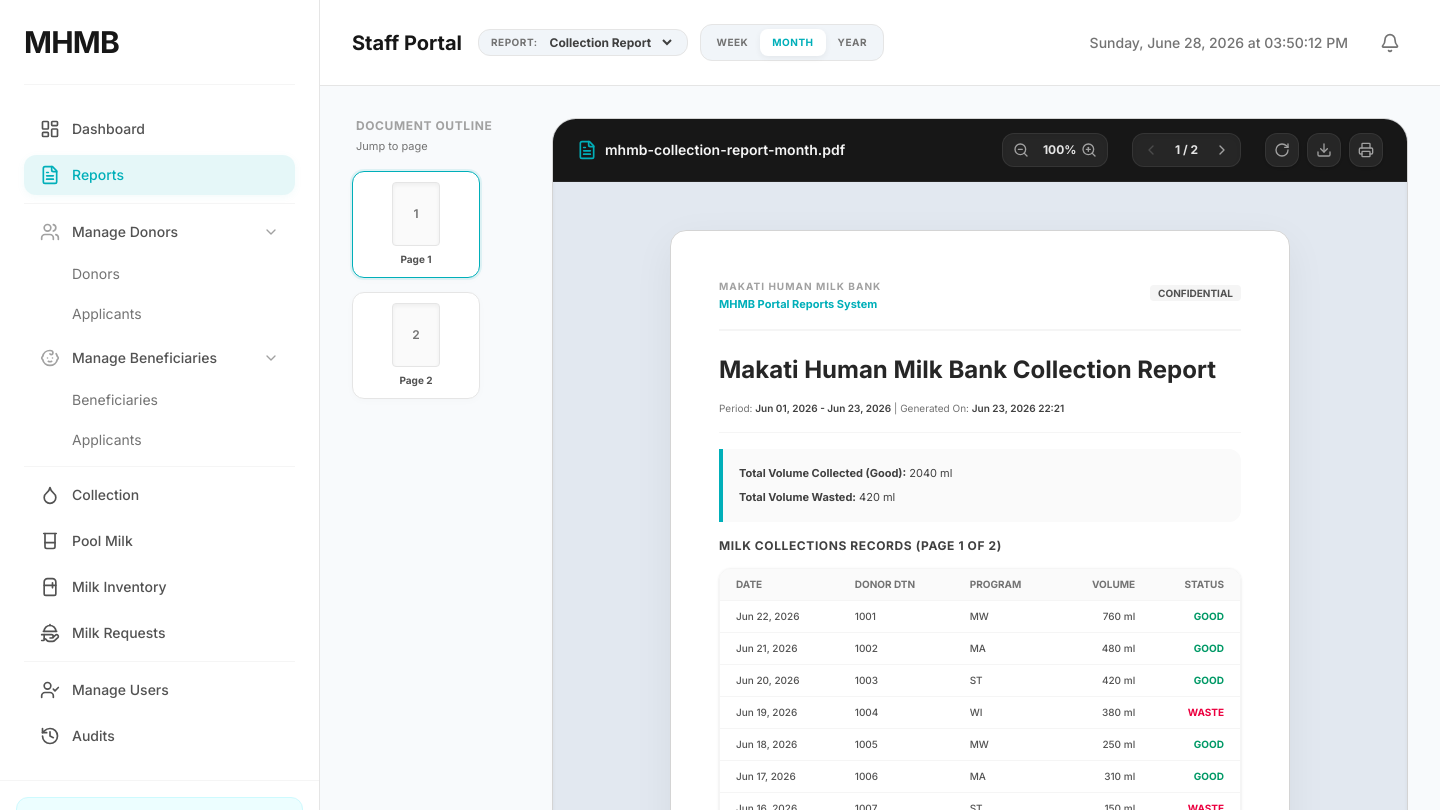
Test: StaffReports Component › navigates pages via next and prev buttons
This screenshot has width=1440, height=810.
Check: the element with test id "pdf-page-1" is shown, box [719,354,1241,809]
Check: the text "Jun 22, 2026" is shown, box [720,600,839,632]
Note: Click Next Page
Click the button with test id "next-page-btn" at [1222, 150], box [1208,136,1236,164]
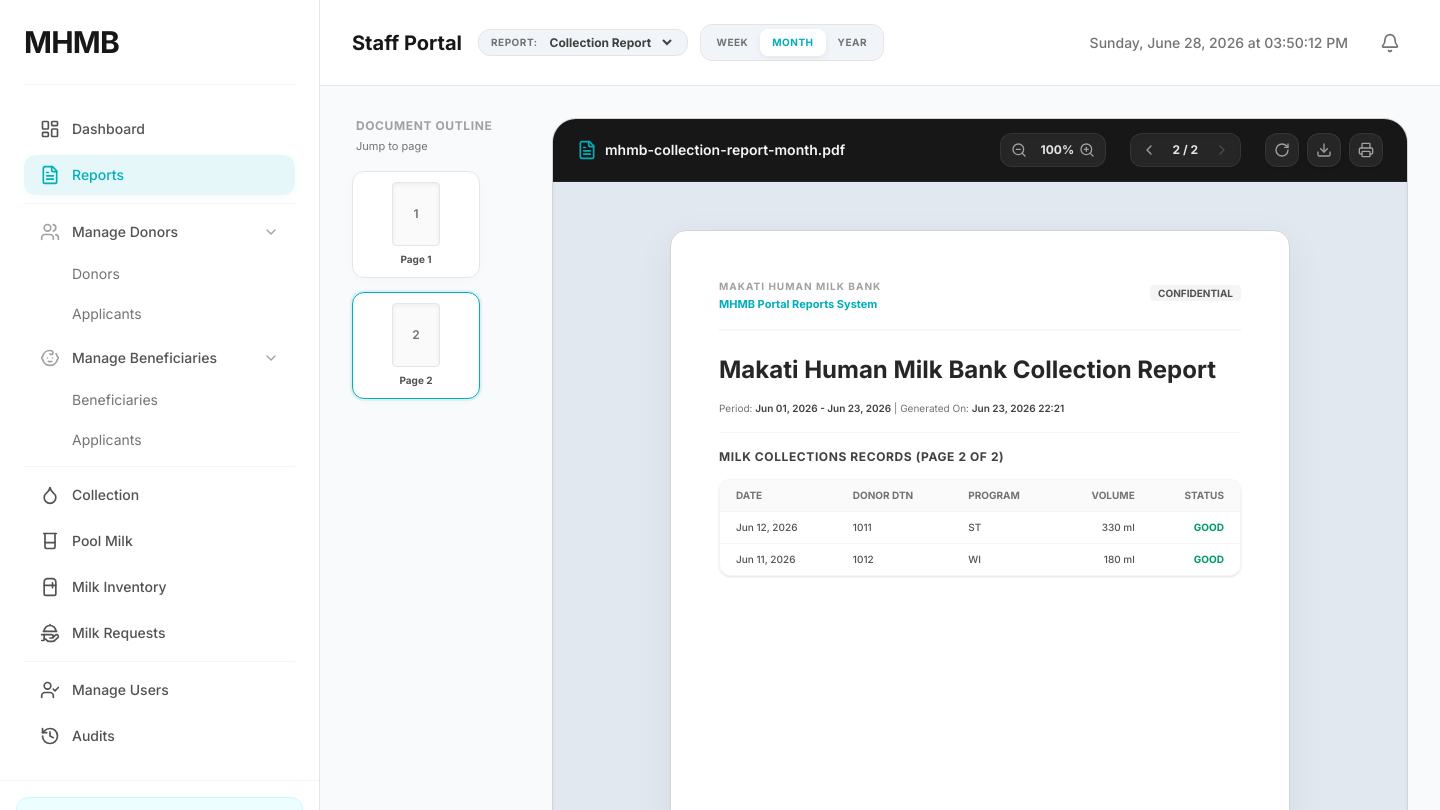
Check: the element with test id "pdf-page-2" is shown, box [719,354,1241,576]
Note: Click Prev Page
Click the button with test id "prev-page-btn" at [1148, 150], box [1134,136,1162,164]
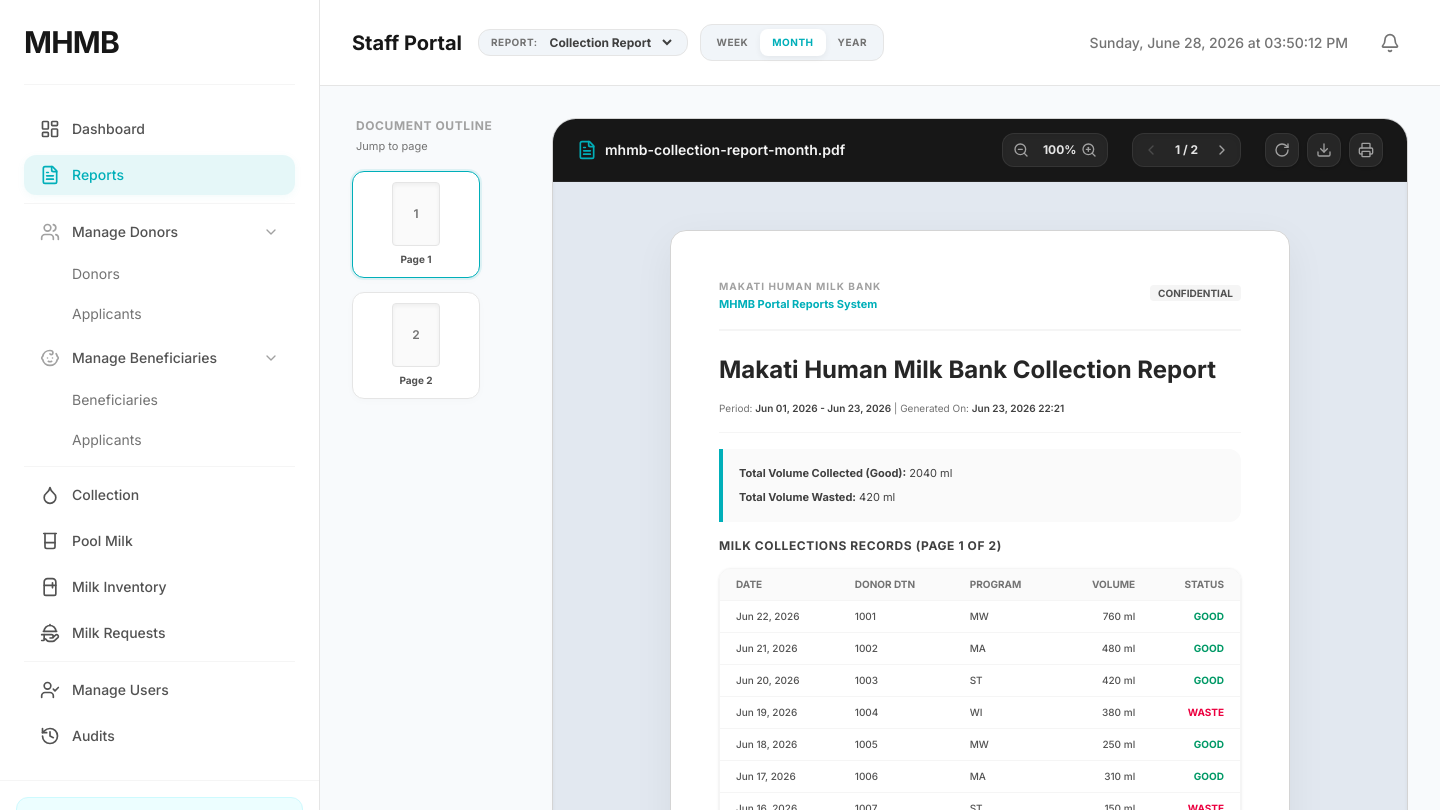
Check: the heading "Makati Human Milk Bank Collection Report" is shown, box [719,354,1241,384]
Check: the element with test id "pdf-page-1" is shown, box [719,354,1241,809]
